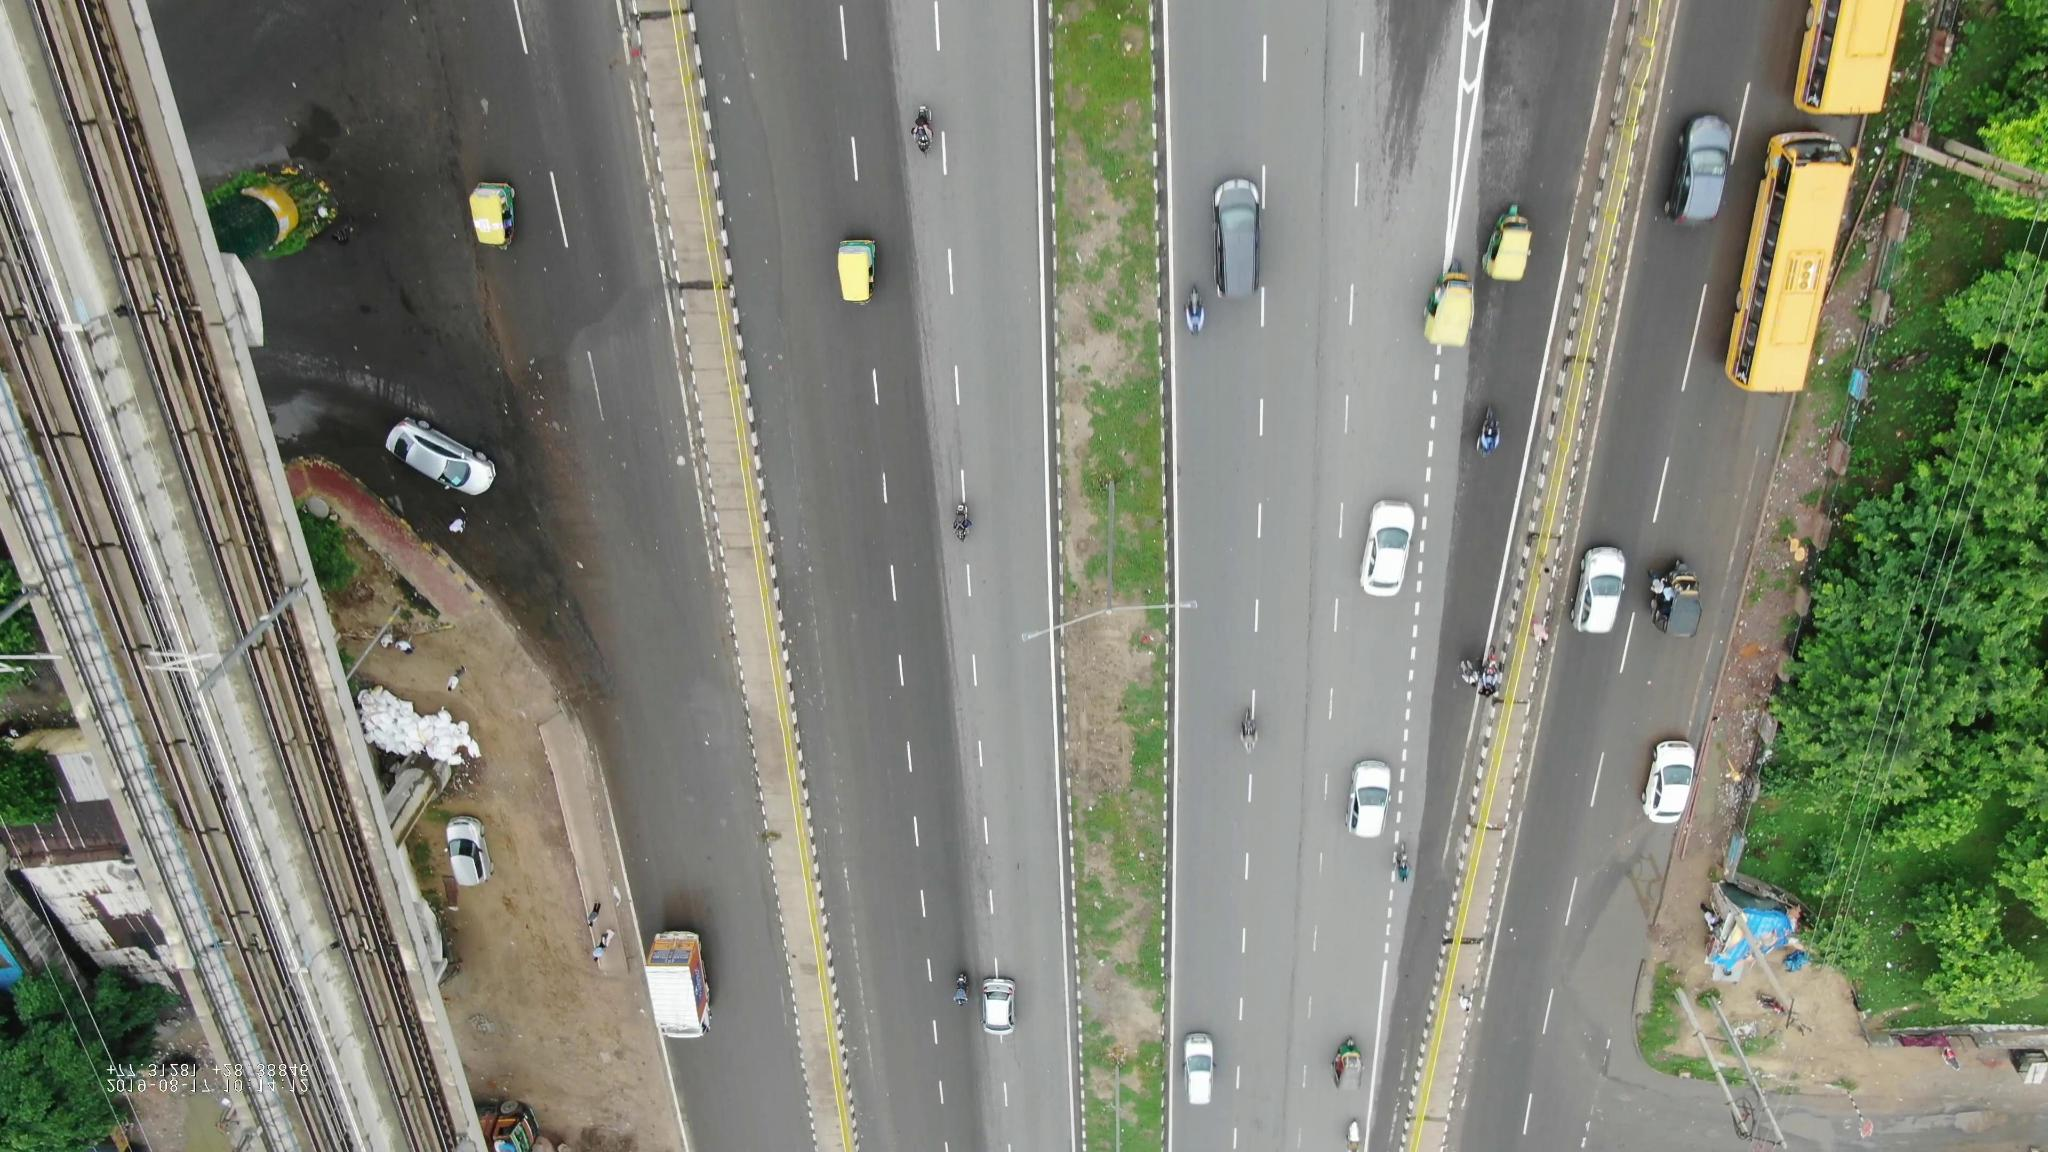Ravelling: (1288, 286, 1364, 527), (1300, 15, 1370, 263), (1273, 776, 1340, 951), (1287, 556, 1342, 761), (1263, 985, 1331, 1139)
